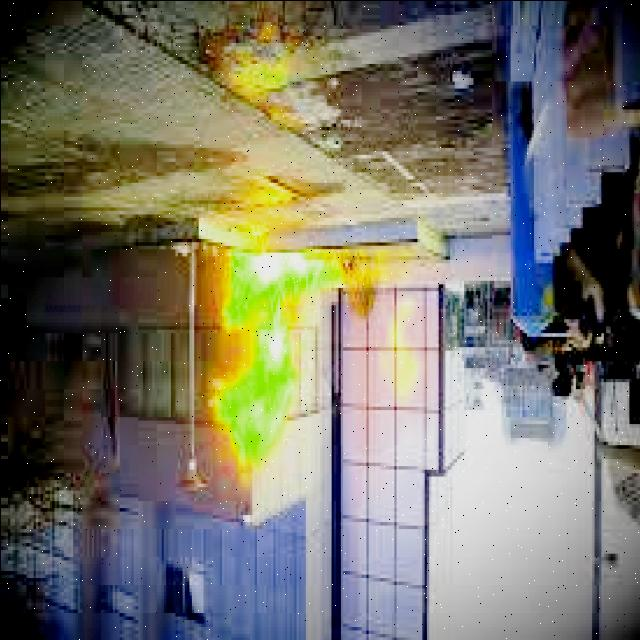api: (194, 246, 322, 477)
